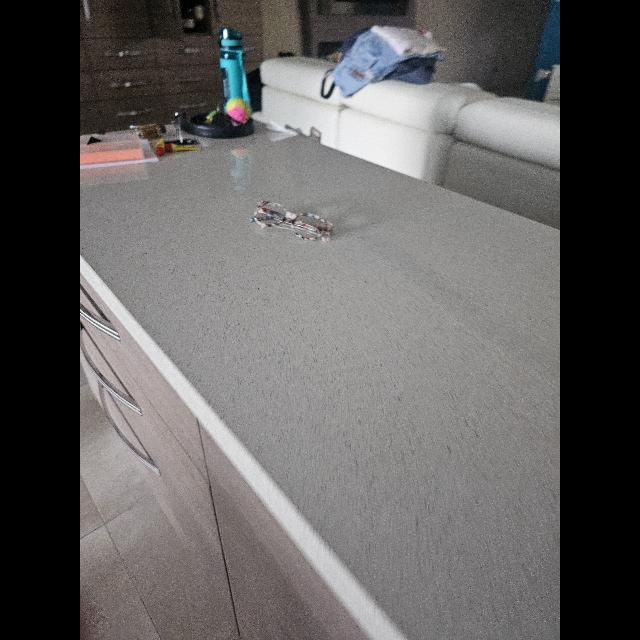glasses: (249, 201, 333, 241)
